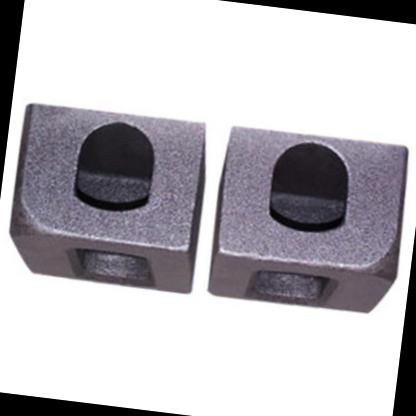CornerCasting: (199, 118, 413, 326), (2, 97, 213, 296)
